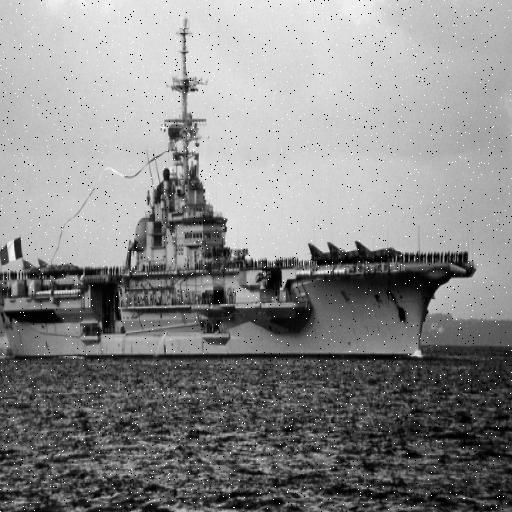Portanaves: (1, 16, 479, 367)
